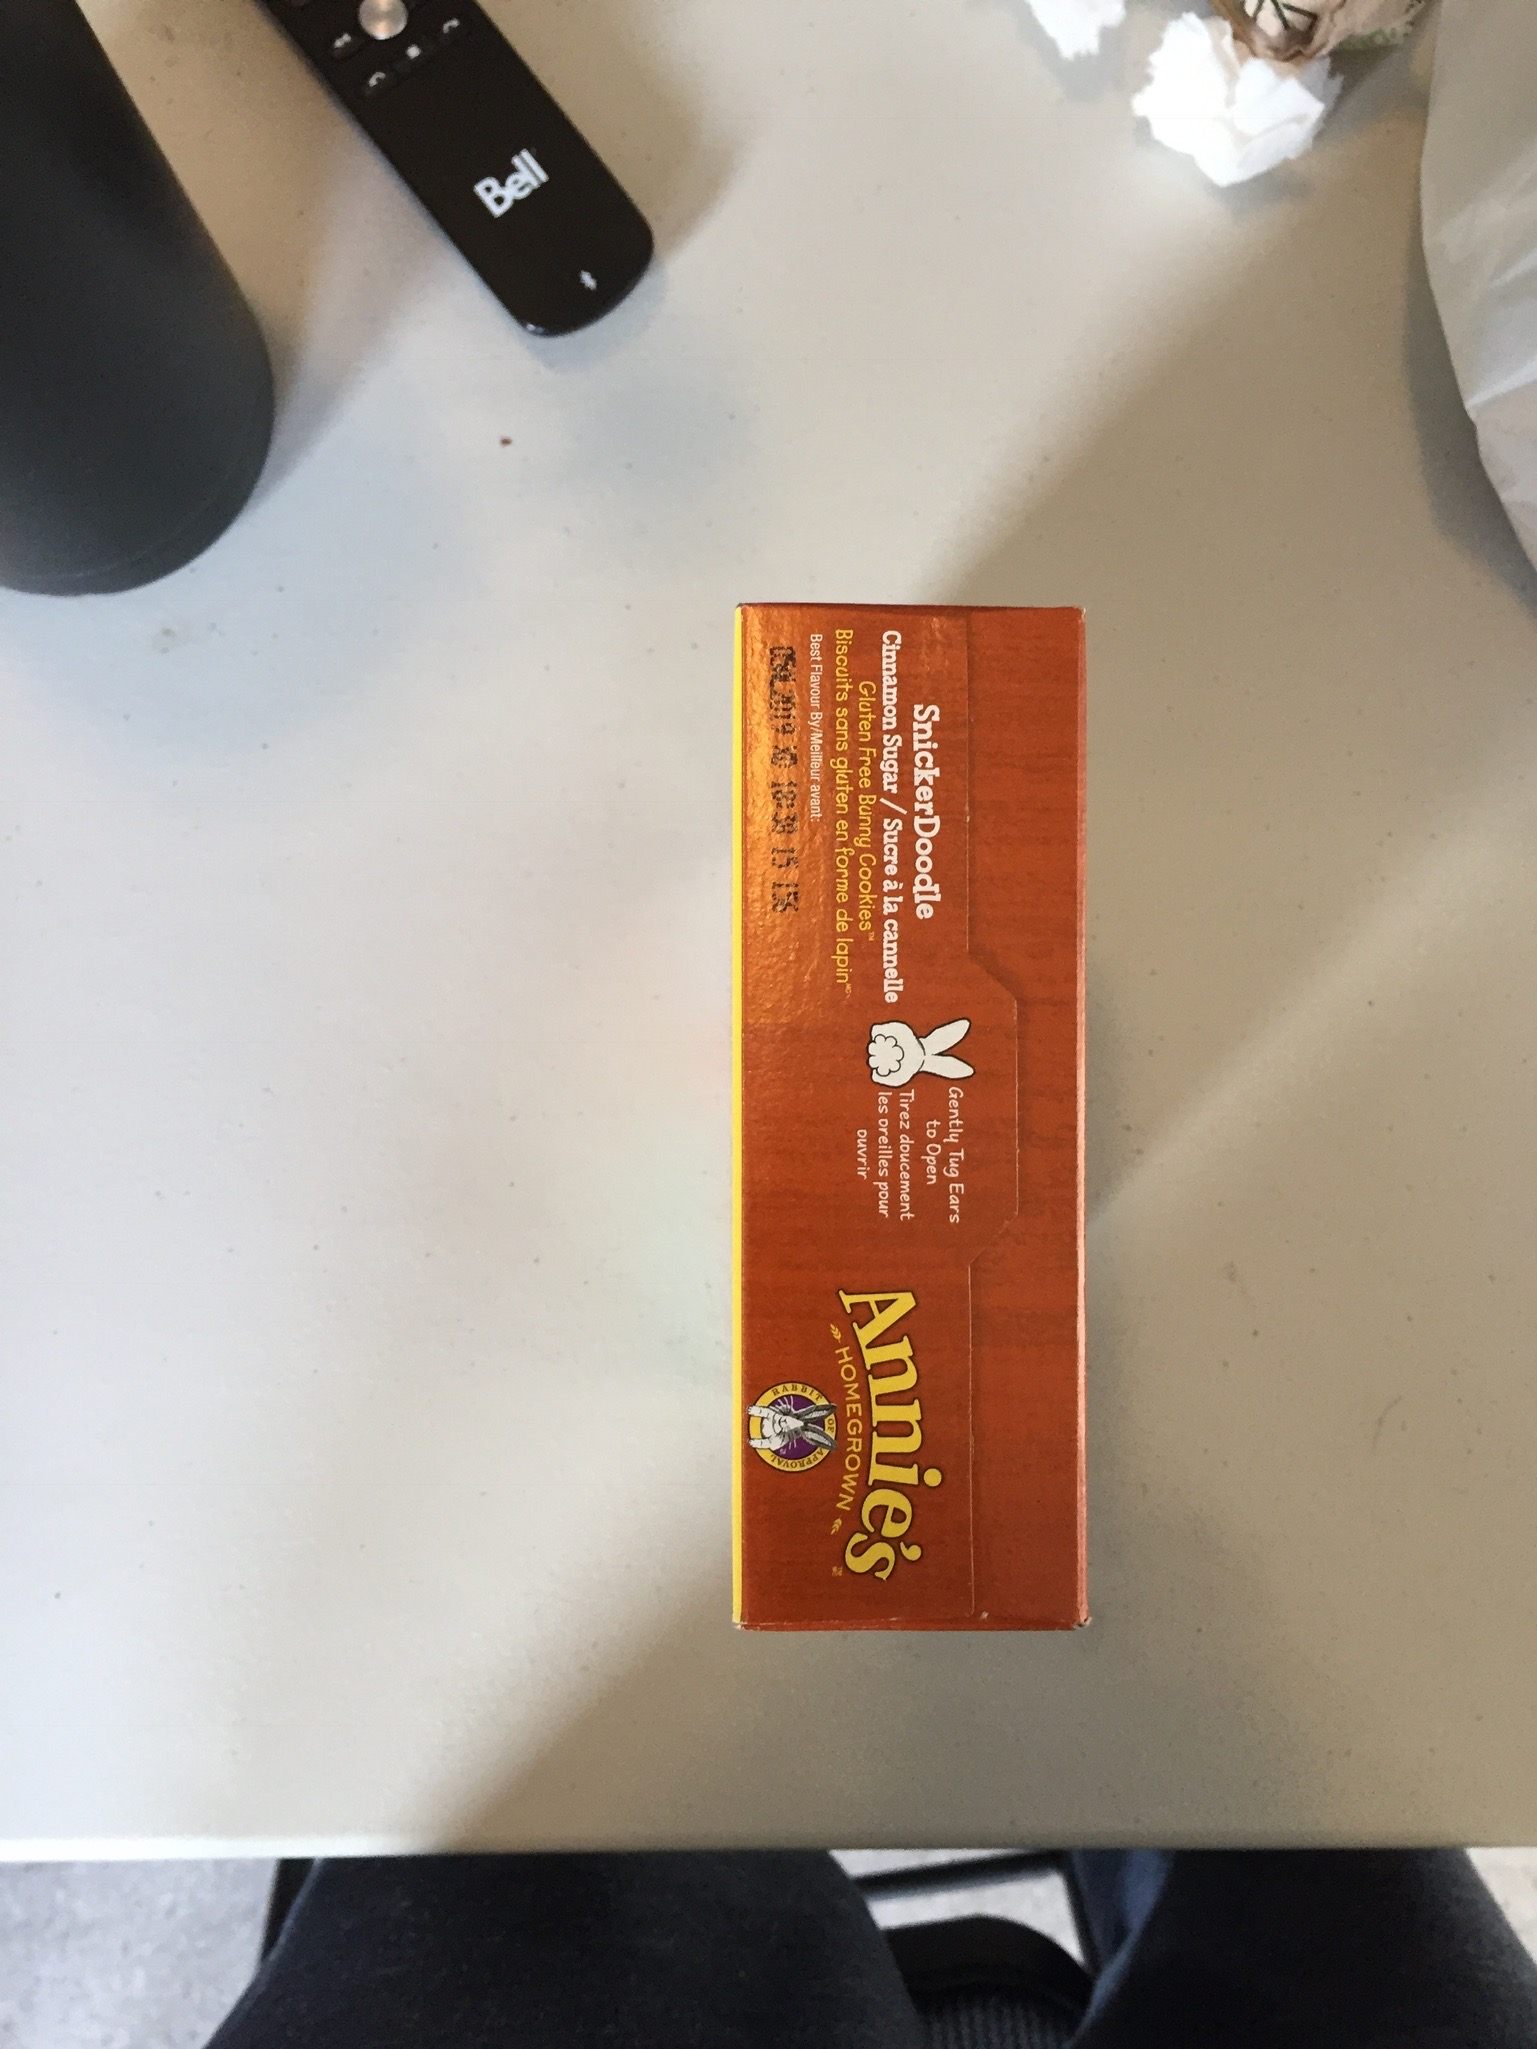annies_snickerdoodles_cinnamon_sugar: (738, 602, 1064, 1608)
